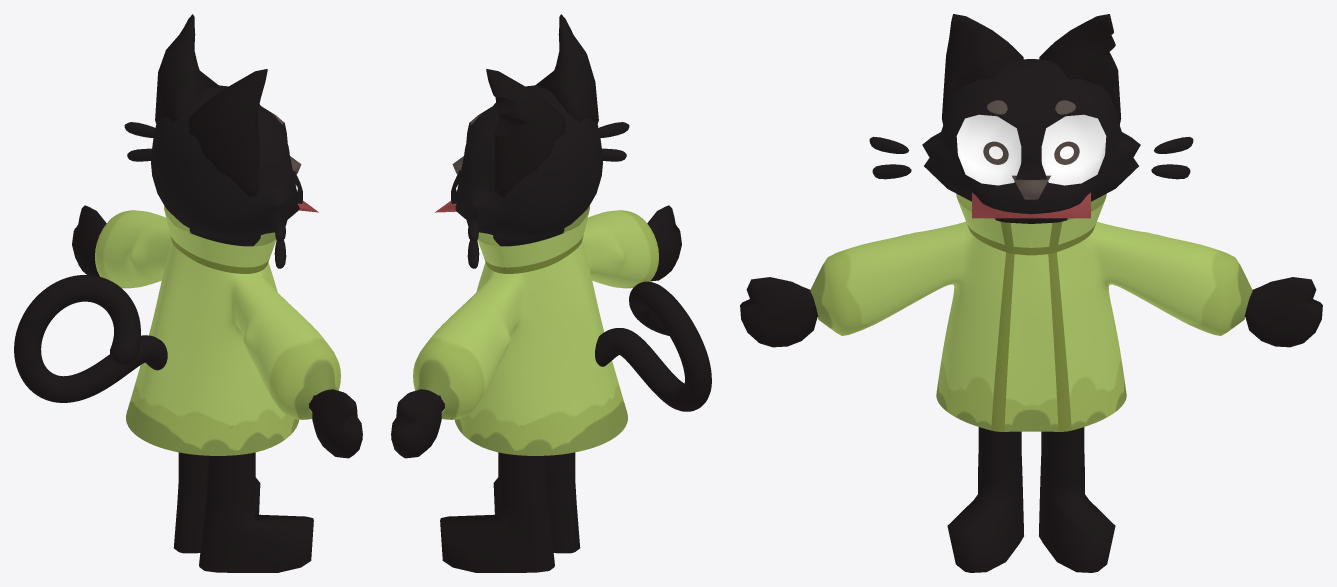
Rendered from breu-character.glb.
The picture shows the model from 3 angles, left to right: view 1: azimuth 30°, elevation 25°; view 2: azimuth 150°, elevation 25°; view 3: azimuth 270°, elevation 25°; orthographic projection. The views are drawn at different scales.
Visible parts, largest first — view 1: outer layer, body; view 2: outer layer, body; view 3: body, outer layer.
Part boxes in pixels (left/top/right/bottom): outer layer: left=14, top=205, right=340, bottom=455; body: left=72, top=14, right=362, bottom=572; outer layer: left=413, top=205, right=711, bottom=455; body: left=391, top=14, right=681, bottom=572; body: left=740, top=14, right=1322, bottom=572; outer layer: left=810, top=194, right=1252, bottom=431.
Bounding box in the file's own units: 0.978 × 1.79 × 1.78.
Materials: 3 (2 with a texture image).
